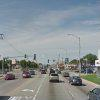Car: (65, 69, 83, 88)
